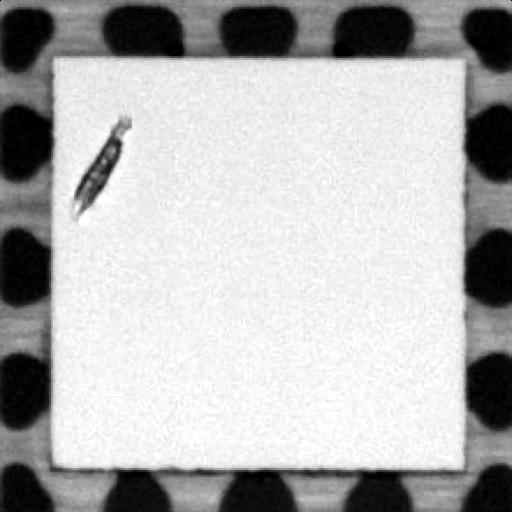DIE_INK: (65, 109, 137, 221)
